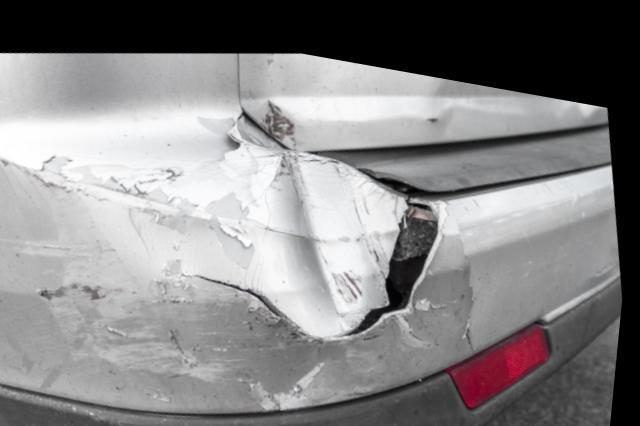crack: (190, 182, 444, 333)
dent: (232, 135, 406, 316), (430, 63, 475, 123)
scratch: (26, 144, 403, 393)
